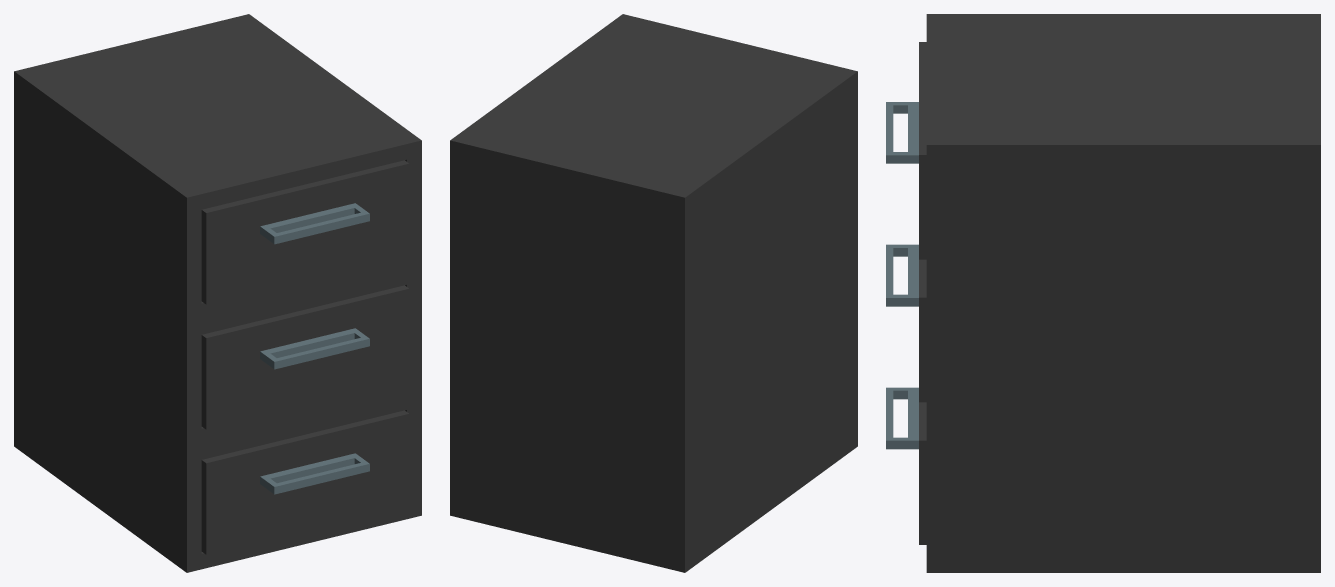
Rendered from CabinetMediumV1Black.fbx.
3 views of the same model, side by side, from view 1: azimuth 30°, elevation 25°; view 2: azimuth 150°, elevation 25°; view 3: azimuth 270°, elevation 25° (orthographic). The views are drawn at different scales.
Parts seen in each view (by area): view 1: CabinetMediumV1Black, CabinetMediumV1Black_Drawer1, CabinetMediumV1Black_Drawer2, CabinetMediumV1Black_Drawer3; view 2: CabinetMediumV1Black; view 3: CabinetMediumV1Black, CabinetMediumV1Black_Drawer1, CabinetMediumV1Black_Drawer2, CabinetMediumV1Black_Drawer3.
Boxes of the visible parts, x1,y1,x2,y2 form: CabinetMediumV1Black: [14, 14, 421, 572]; CabinetMediumV1Black_Drawer1: [201, 160, 409, 304]; CabinetMediumV1Black_Drawer2: [201, 285, 409, 429]; CabinetMediumV1Black_Drawer3: [201, 410, 409, 554]; CabinetMediumV1Black: [450, 14, 857, 572]; CabinetMediumV1Black: [926, 14, 1320, 572]; CabinetMediumV1Black_Drawer1: [886, 42, 926, 259]; CabinetMediumV1Black_Drawer2: [886, 244, 926, 402]; CabinetMediumV1Black_Drawer3: [886, 387, 926, 544].
Bounding box in the file's own units: 39.32 × 60 × 55.23.
